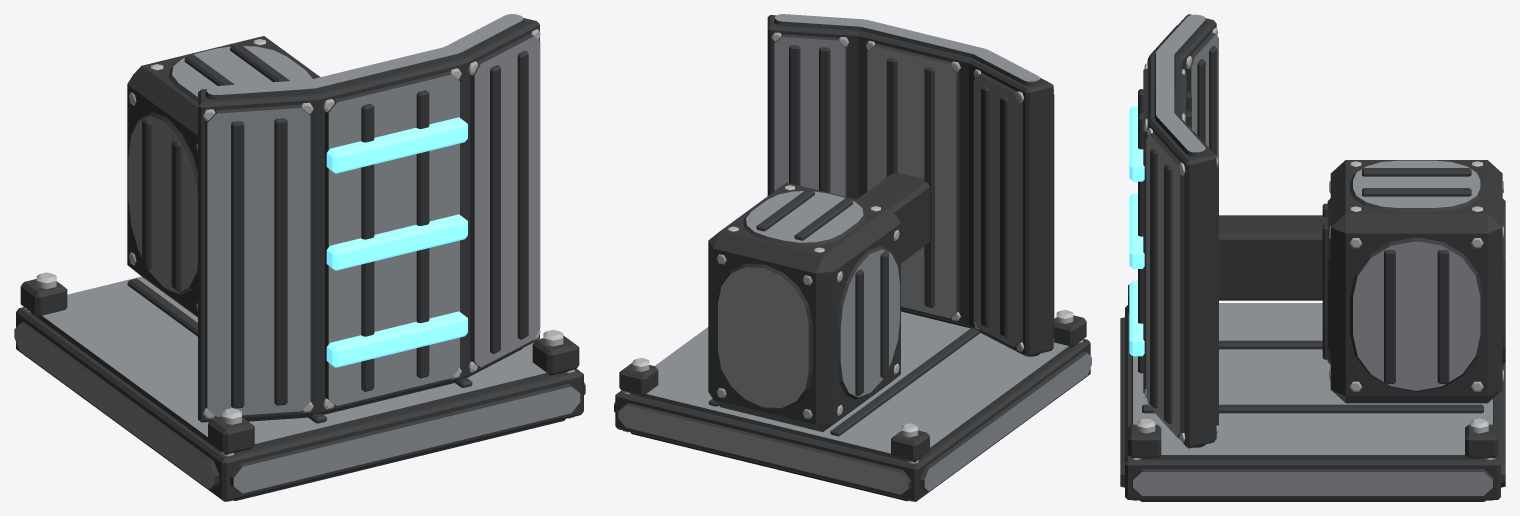
The model's file is R4X_DirectionalShield.fbx.
The picture shows the model from 3 angles, left to right: view 1: azimuth 30°, elevation 25°; view 2: azimuth 150°, elevation 25°; view 3: azimuth 270°, elevation 25°; orthographic projection. The views are drawn at different scales.
Visible parts, largest first — view 1: R4X_DirectionalShield_Body; view 2: R4X_DirectionalShield_Body; view 3: R4X_DirectionalShield_Body.
Boxes of the visible parts, x1,y1,x2,y2 form: R4X_DirectionalShield_Body: (14, 14, 585, 501); R4X_DirectionalShield_Body: (614, 14, 1091, 501); R4X_DirectionalShield_Body: (1120, 14, 1505, 501).
Size of the model in its own units: 0.52 by 0.51 by 0.52.
